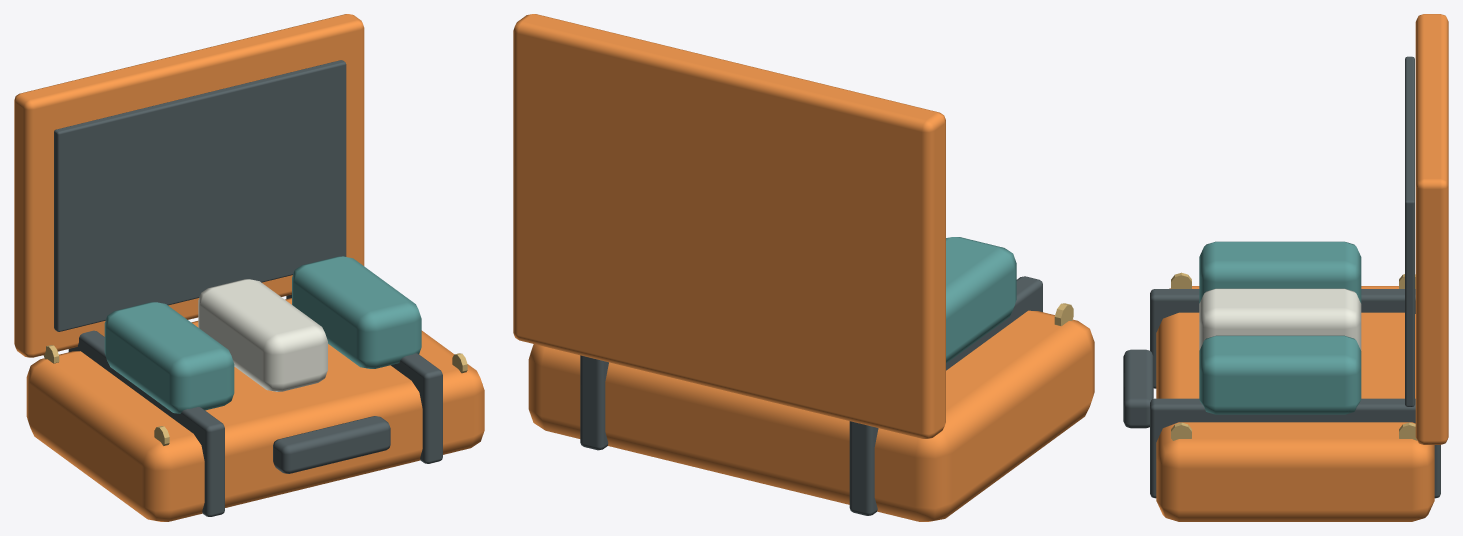
The model's file is castaway-island-escape-opened-survival-case-71d3854e__28056.glb.
3 views of the same model, side by side, from view 1: azimuth 30°, elevation 25°; view 2: azimuth 150°, elevation 25°; view 3: azimuth 270°, elevation 25° (orthographic). The views are drawn at different scales.
Visible parts, largest first — view 1: opened-survival-case-orange, opened-survival-case-iron, opened-survival-case-teal, opened-survival-case-ivory, opened-survival-case-brass; view 2: opened-survival-case-orange, opened-survival-case-teal, opened-survival-case-iron; view 3: opened-survival-case-orange, opened-survival-case-teal, opened-survival-case-iron, opened-survival-case-ivory, opened-survival-case-brass.
Part boxes in pixels (box(x1,y1,x2,y2)): opened-survival-case-orange: box(14, 14, 484, 521); opened-survival-case-iron: box(54, 60, 442, 516); opened-survival-case-teal: box(104, 256, 421, 413); opened-survival-case-ivory: box(198, 279, 327, 391); opened-survival-case-brass: box(43, 345, 467, 445); opened-survival-case-orange: box(513, 14, 1094, 521); opened-survival-case-teal: box(946, 237, 1016, 363); opened-survival-case-iron: box(580, 276, 1042, 515); opened-survival-case-orange: box(1156, 14, 1448, 521); opened-survival-case-teal: box(1199, 241, 1361, 414); opened-survival-case-iron: box(1123, 56, 1440, 498); opened-survival-case-ivory: box(1199, 288, 1361, 350); opened-survival-case-brass: box(1171, 272, 1417, 440).
Size of the model in its own units: 0.8 by 0.76 by 0.6425.
